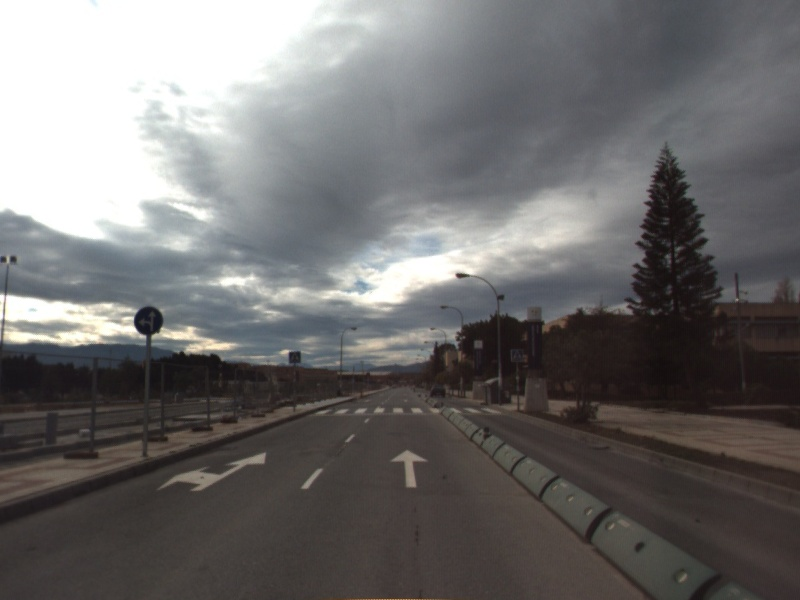STRAIGHT: (388, 447, 431, 490)
STRAIGHT_LEFT: (154, 450, 268, 493)
